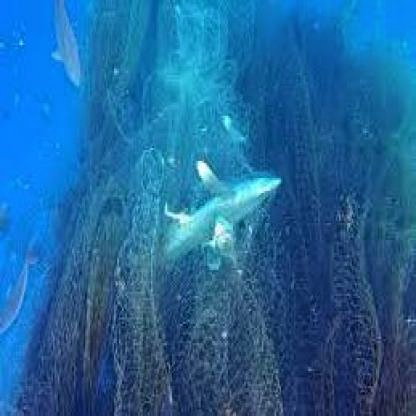net: (42, 111, 416, 416)
